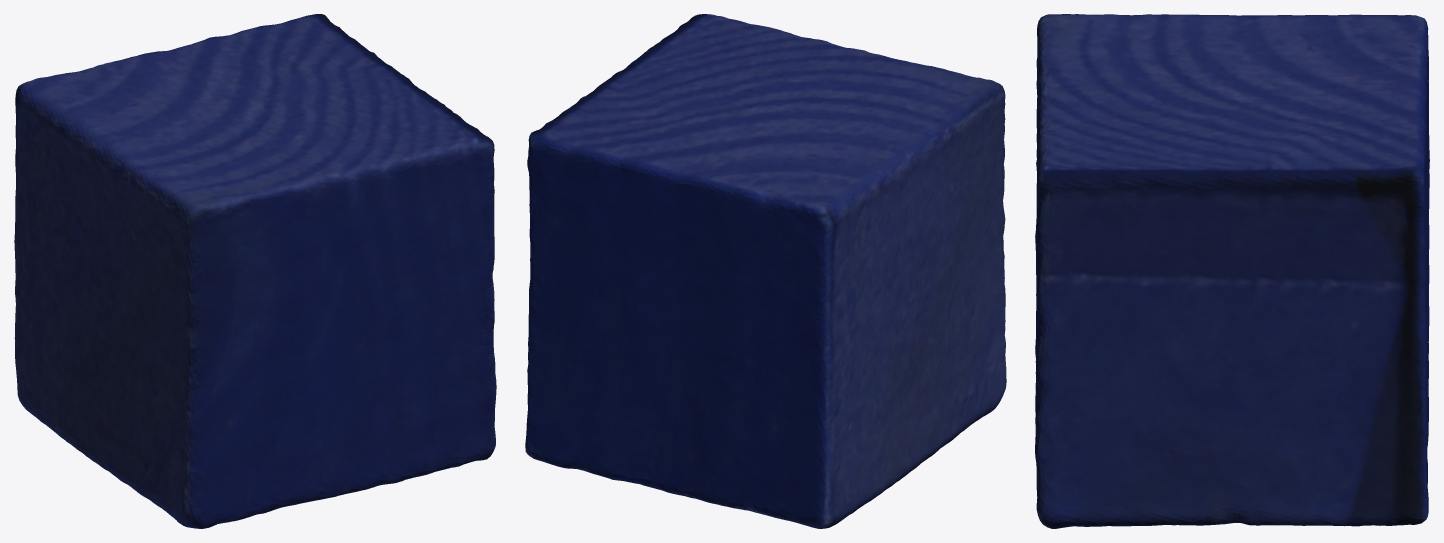
Rendered from b_colored_wood_blocks.glb.
3 renders of one model, left to right at view 1: azimuth 30°, elevation 25°; view 2: azimuth 150°, elevation 25°; view 3: azimuth 270°, elevation 25°, orthographic. The views are drawn at different scales.
Visible parts, largest first — view 1: textured.obj; view 2: textured.obj; view 3: textured.obj.
Boxes of the visible parts, box(x1,y1,x2,y2) form: textured.obj: box(14, 14, 496, 528); textured.obj: box(525, 14, 1006, 528); textured.obj: box(1035, 14, 1429, 528).
Bounding box in the file's own units: 0.0259 × 0.0258 × 0.0258.
1 material, 1 textured.
